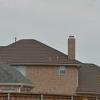Chimney: (60, 30, 81, 59)
